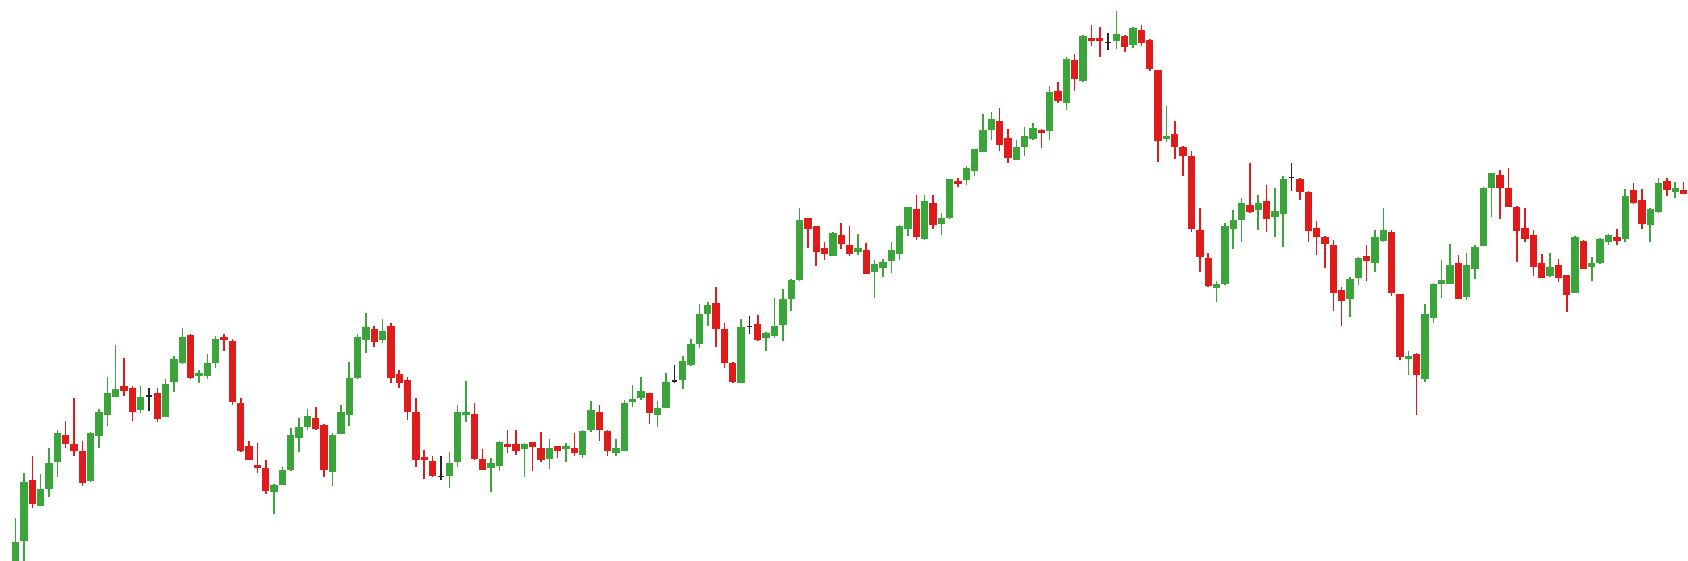buy: (1328, 226, 1433, 425), (428, 416, 505, 502)
sell: (211, 311, 378, 413), (110, 329, 196, 405)
